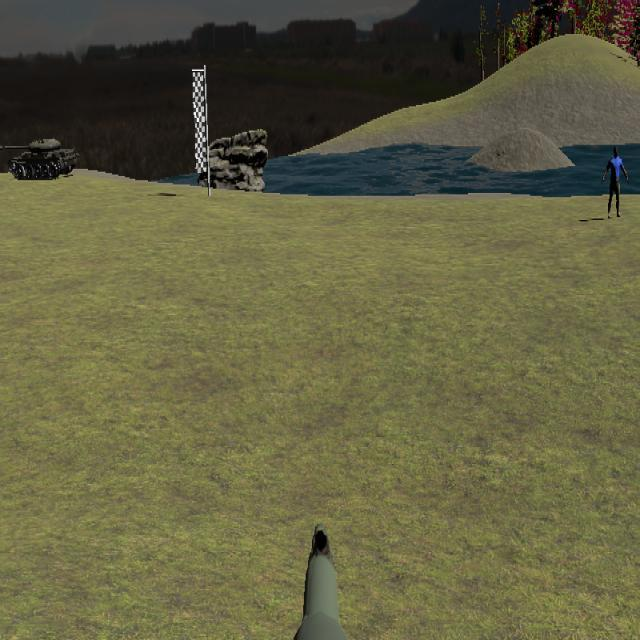Human: (603, 146, 629, 219)
Tank: (0, 138, 79, 181)
